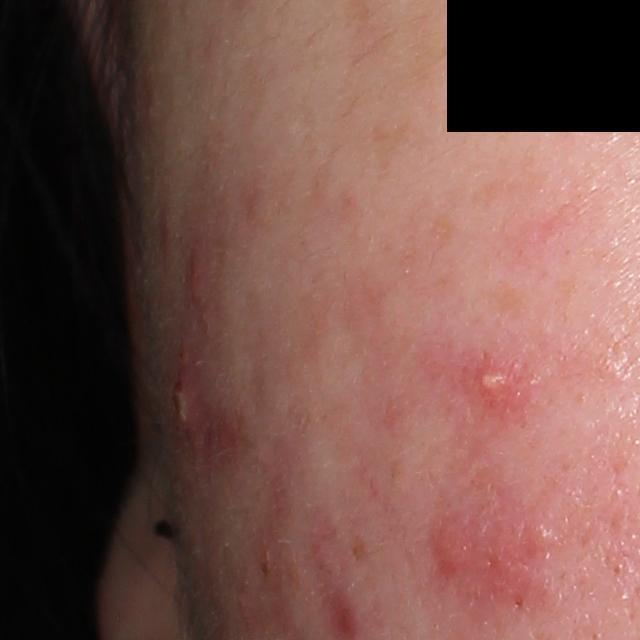melasma: (466, 267, 556, 329), (369, 117, 427, 192), (425, 212, 463, 249)
nodule: (430, 504, 553, 612)
papule: (185, 237, 207, 304)
pustule: (476, 369, 512, 396)
